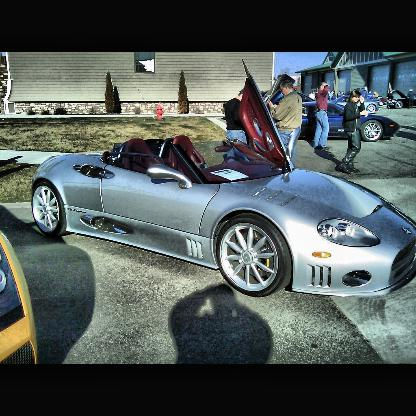Spyker C8 Convertible 2009: (31, 58, 416, 300)
